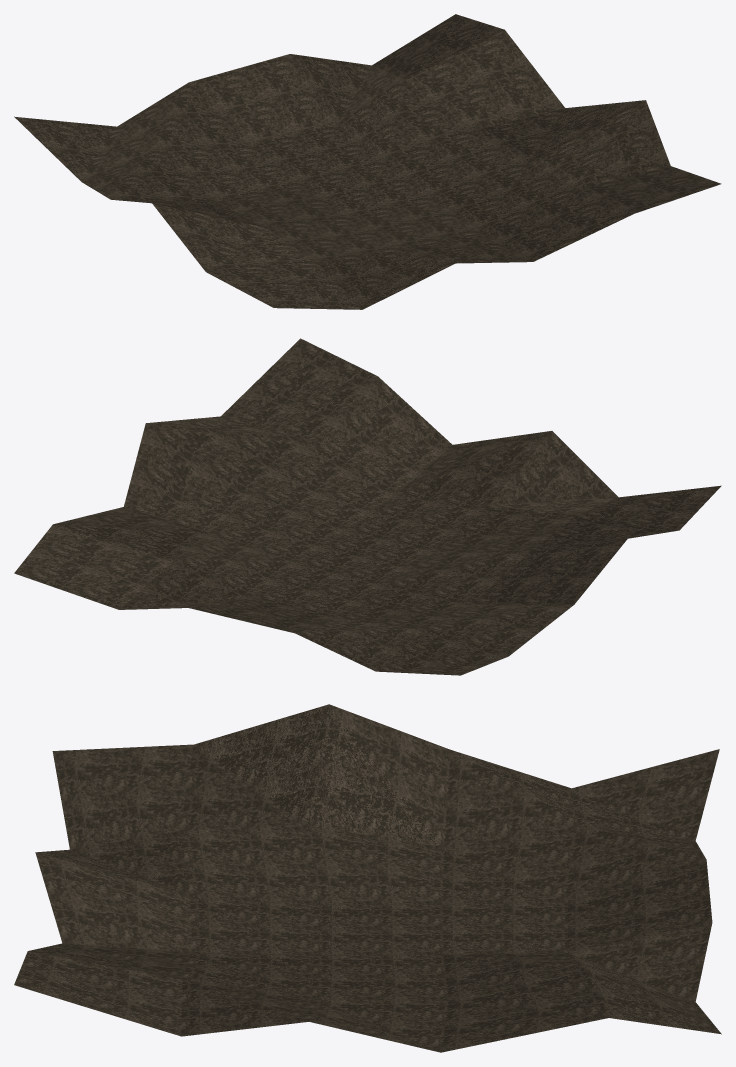
The model's file is titleScreen_floor.fbx.
3 views of the same model, one above another, from view 1: azimuth 30°, elevation 25°; view 2: azimuth 150°, elevation 25°; view 3: azimuth 270°, elevation 25° (orthographic). The views are drawn at different scales.
Visible parts, largest first — view 1: Dirt; view 2: Dirt; view 3: Dirt.
Boxes of the visible parts, box(x1,y1,x2,y2) form: Dirt: box(14, 14, 721, 309); Dirt: box(14, 338, 721, 675); Dirt: box(14, 704, 721, 1052).
Bounding box in the file's own units: 189 × 186 × 22.16.
